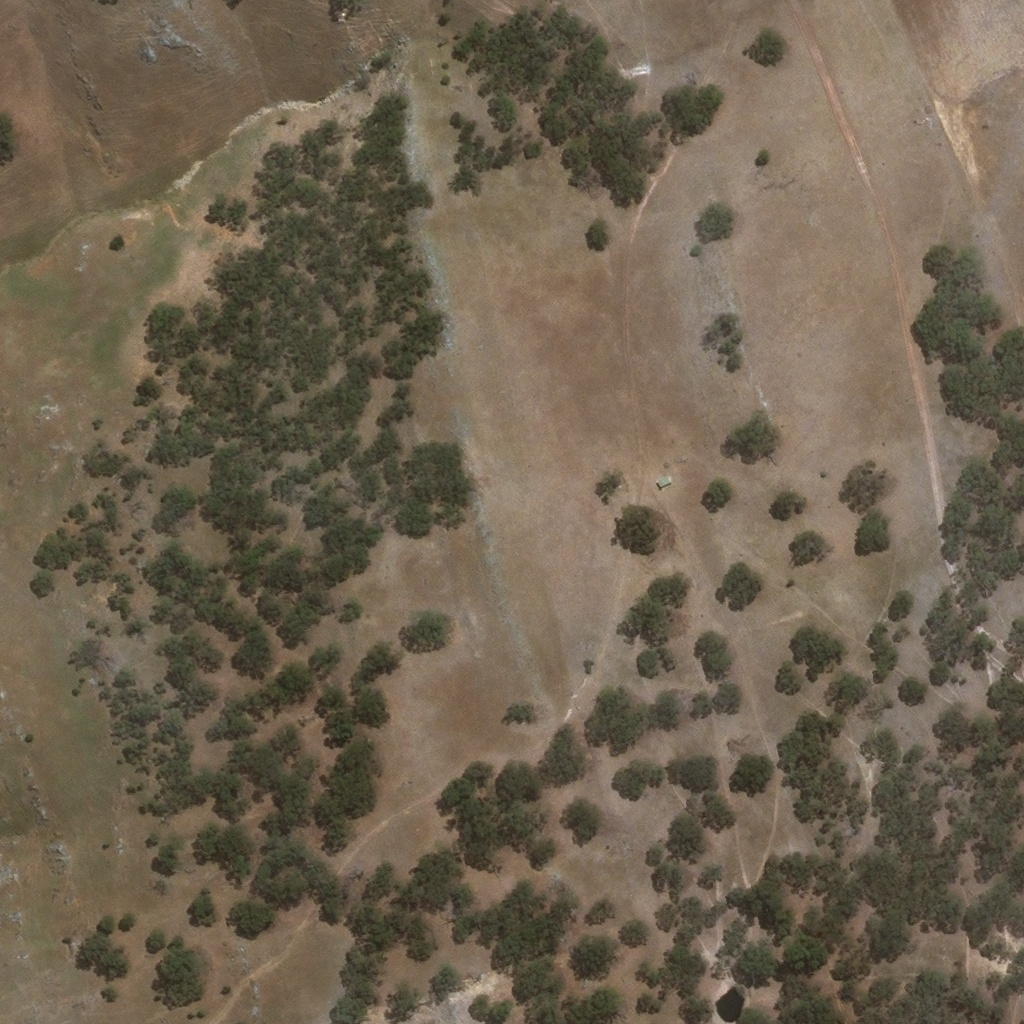0 no-damage: (656, 476, 671, 489)
